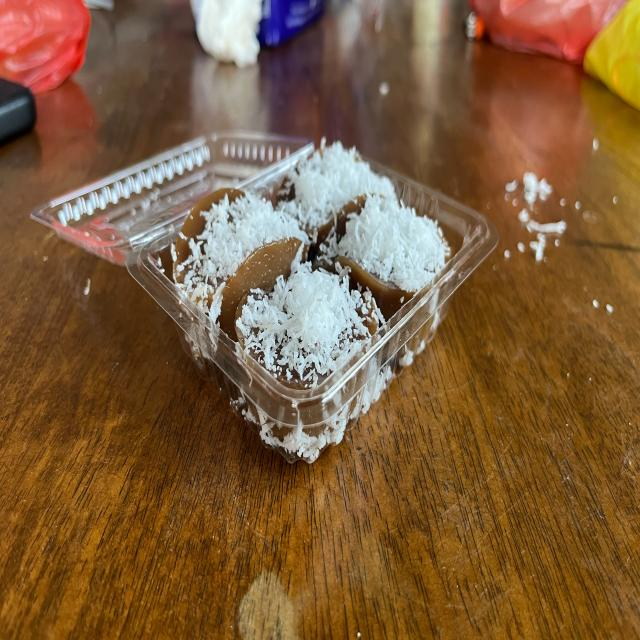Kuih lompang: (174, 189, 308, 340), (236, 262, 379, 389), (321, 193, 450, 320)
